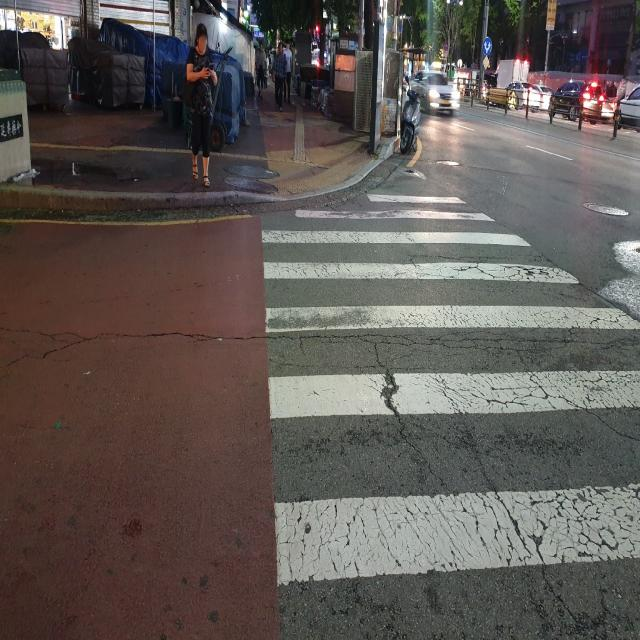횡단보도: (261, 190, 637, 594)
